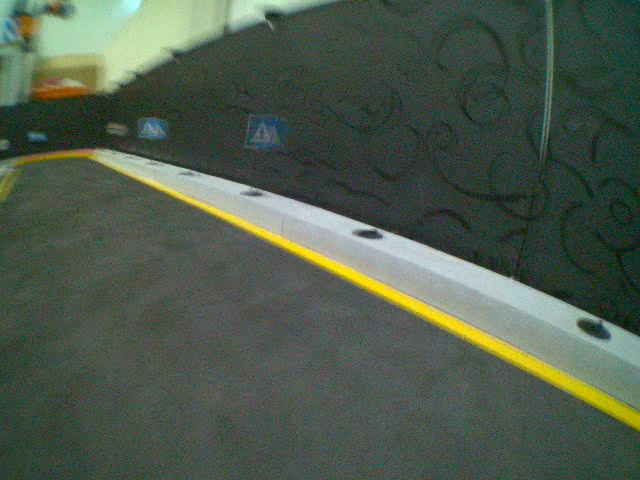crossing: (244, 110, 284, 151)
